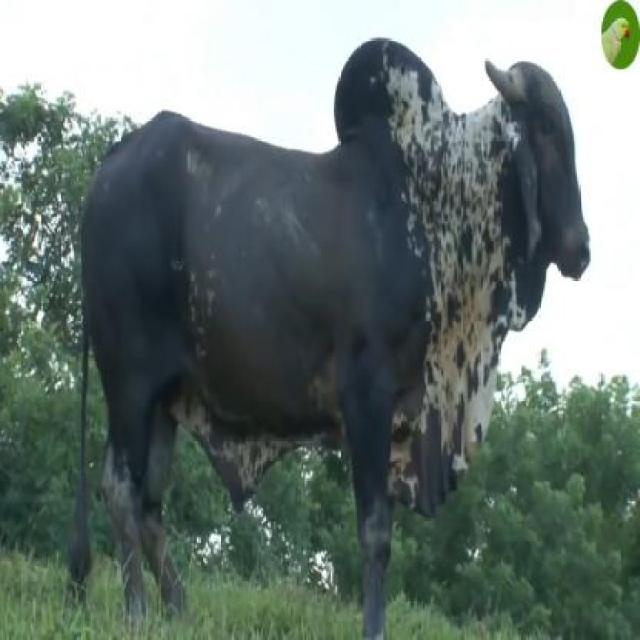Cow: (80, 39, 591, 638)
